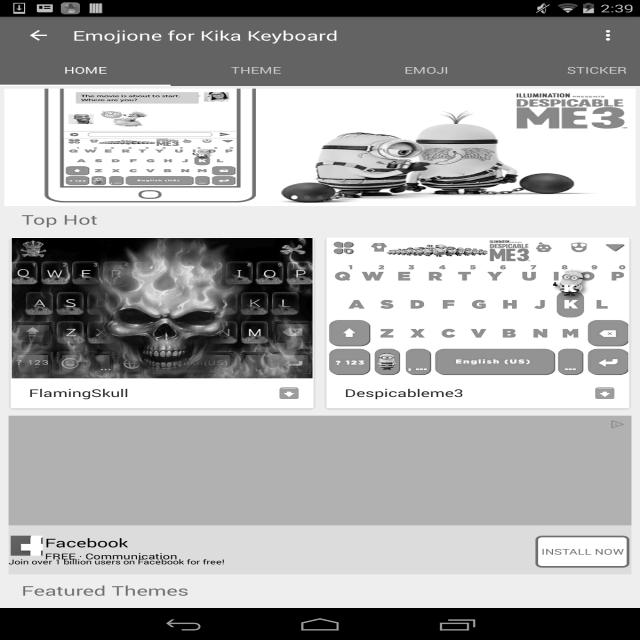Button: (536, 536, 630, 568)
ImageButton: (9, 17, 68, 54), (266, 378, 312, 408), (582, 378, 628, 408)
ImageView: (9, 368, 632, 572), (4, 89, 636, 206), (11, 238, 312, 378), (328, 238, 628, 378), (589, 19, 631, 52), (10, 536, 42, 556), (607, 418, 628, 431), (300, 196, 314, 200), (288, 196, 301, 200), (326, 196, 339, 200), (339, 196, 352, 200), (314, 196, 326, 200)
TextView: (45, 551, 533, 571), (13, 210, 551, 228), (13, 582, 551, 600), (45, 534, 533, 551), (73, 26, 338, 44), (9, 557, 225, 574), (12, 386, 266, 400), (328, 386, 582, 400), (567, 64, 627, 76), (231, 64, 281, 76), (404, 64, 449, 76), (64, 64, 107, 76)
